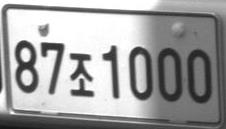0: (186, 48, 212, 104), (156, 47, 182, 102), (128, 45, 153, 101)
1: (99, 44, 124, 99)
7: (40, 41, 65, 94)
8: (14, 39, 39, 94)
조: (68, 52, 94, 97)
